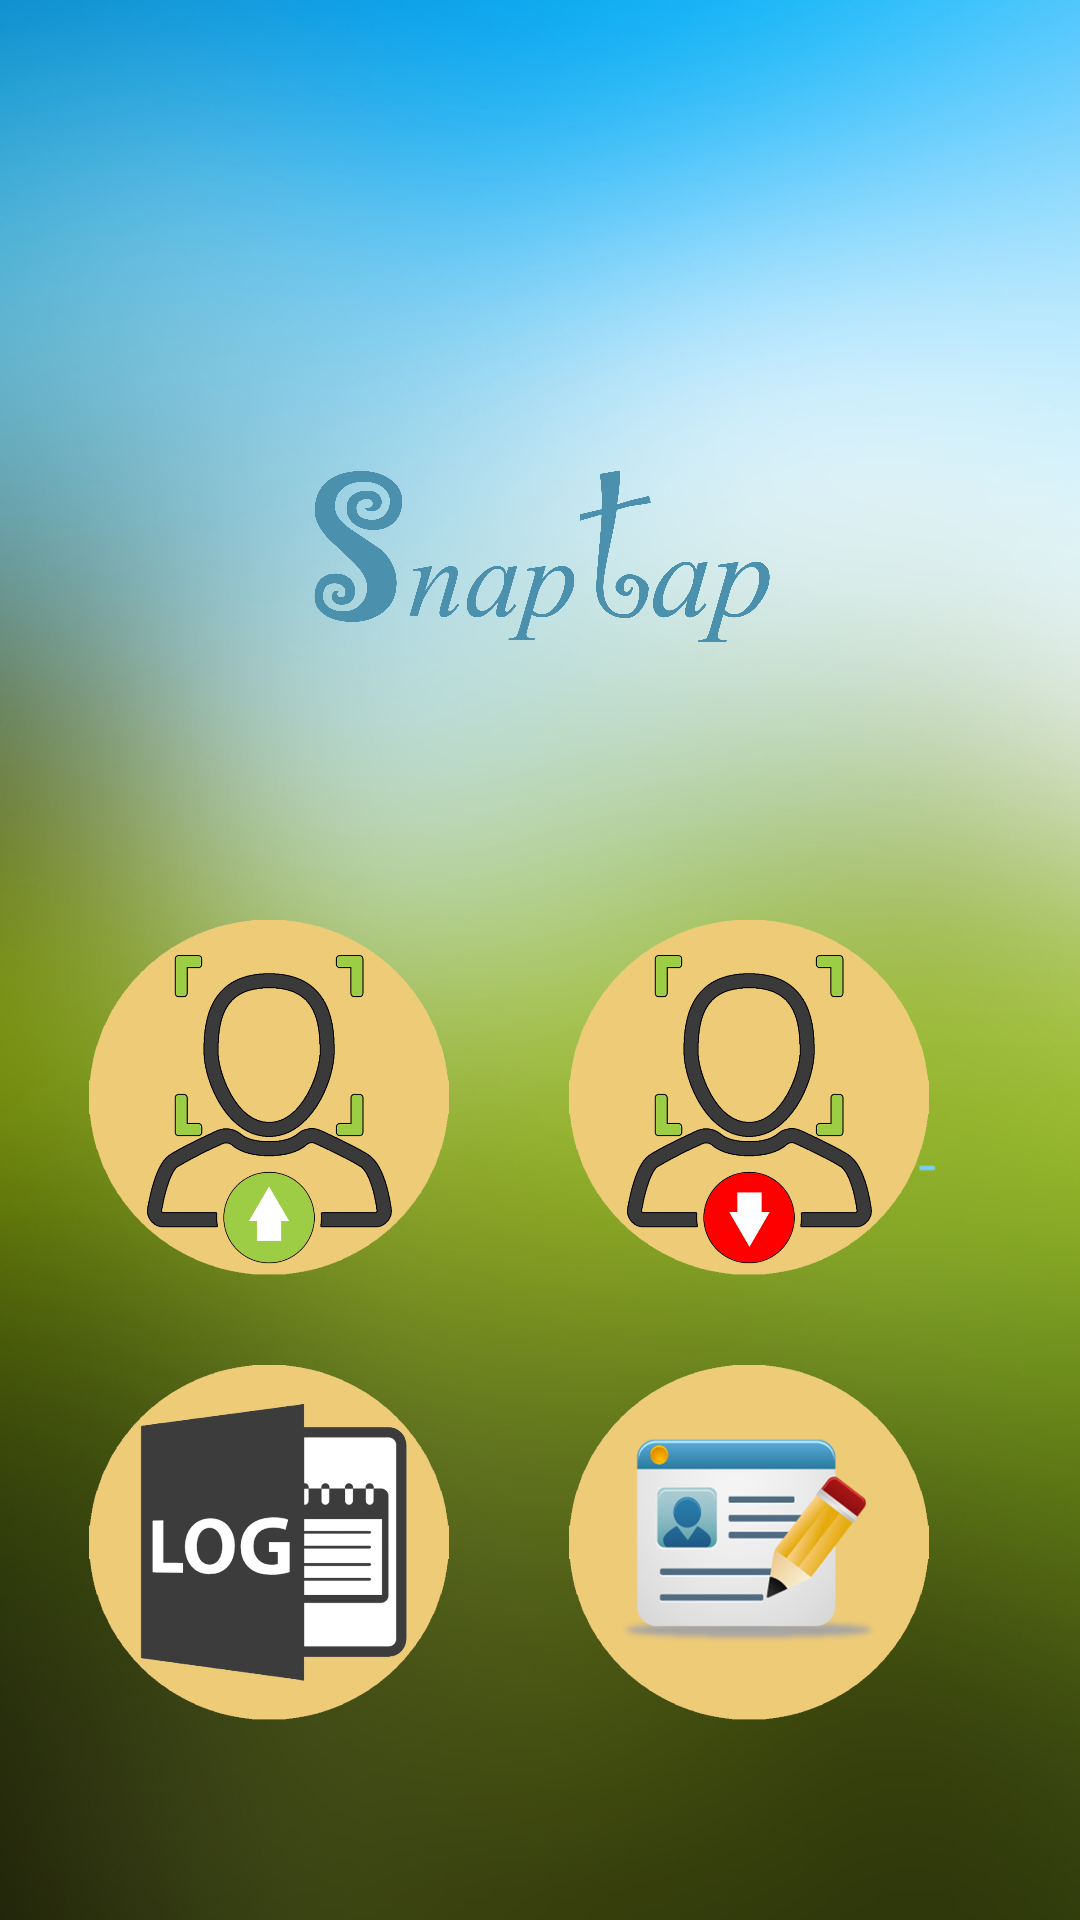

Icon click points for this 1080px x 1920px phone screenshot, format point (x, y):
tap in: point (269, 1097)
tap out: point (749, 1097)
user profile: point (749, 1542)
